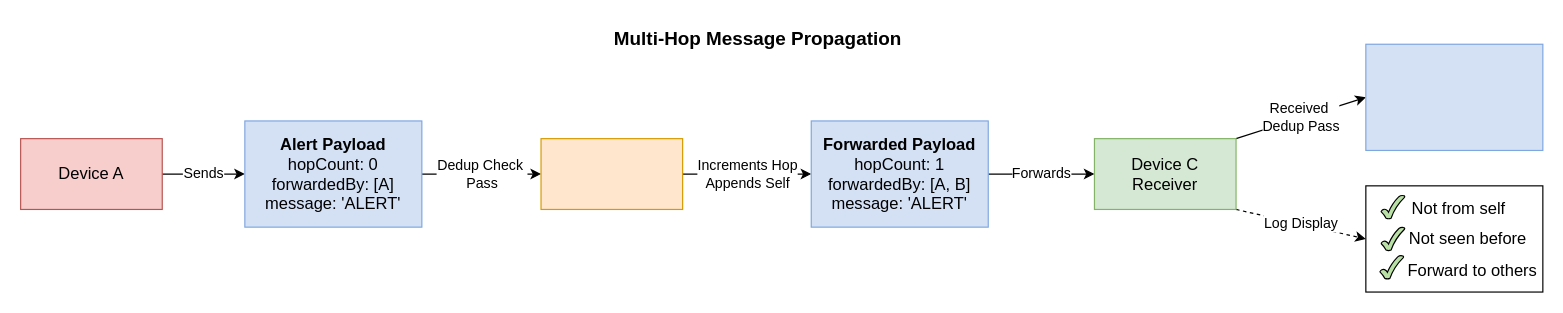
The diagram is 1563 pixels wide and 313 high, and some of its shapes have lost their labels. The box of each missing label's shape, as (x1, y1, x2, y2) in pixels:
Device B Relay: (540, 137, 683, 209)
Received Payload hopCount: 1 forwardedBy: [A, B] message: 'ALERT': (1365, 43, 1543, 150)
